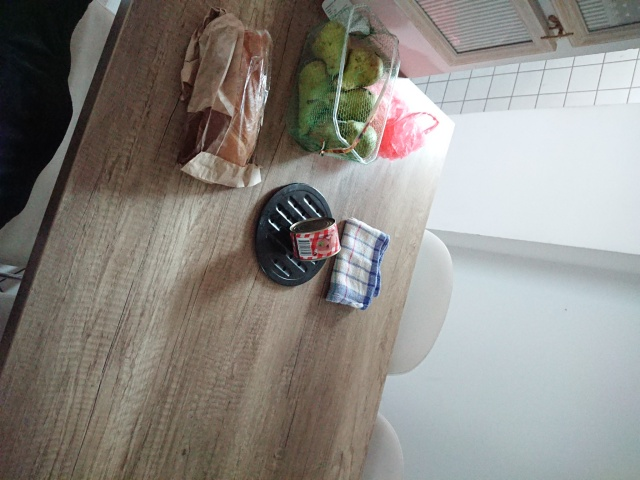Podravka Luncheon Meat 150g: (286, 214, 344, 264)
